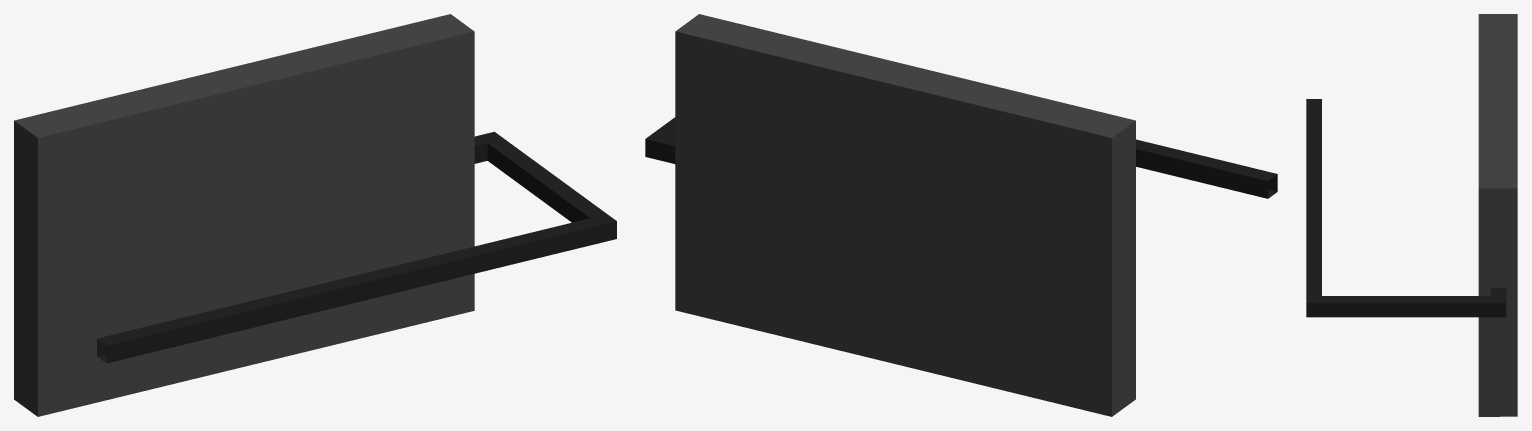
Rendered from Itr_Obj_Toiletpaper_Body_01.FBX.
3 views of the same model, side by side, from view 1: azimuth 30°, elevation 25°; view 2: azimuth 150°, elevation 25°; view 3: azimuth 270°, elevation 25° (orthographic). The views are drawn at different scales.
Visible parts, largest first — view 1: Itr_Obj_Toiletpaper_Body_01; view 2: Itr_Obj_Toiletpaper_Body_01; view 3: Itr_Obj_Toiletpaper_Body_01.
Boxes of the visible parts, <box> form: Itr_Obj_Toiletpaper_Body_01: <box>14,14,616,416</box>; Itr_Obj_Toiletpaper_Body_01: <box>645,14,1277,416</box>; Itr_Obj_Toiletpaper_Body_01: <box>1306,14,1517,416</box>.
Size of the model in its own units: 11.8 by 6.17 by 5.17.
